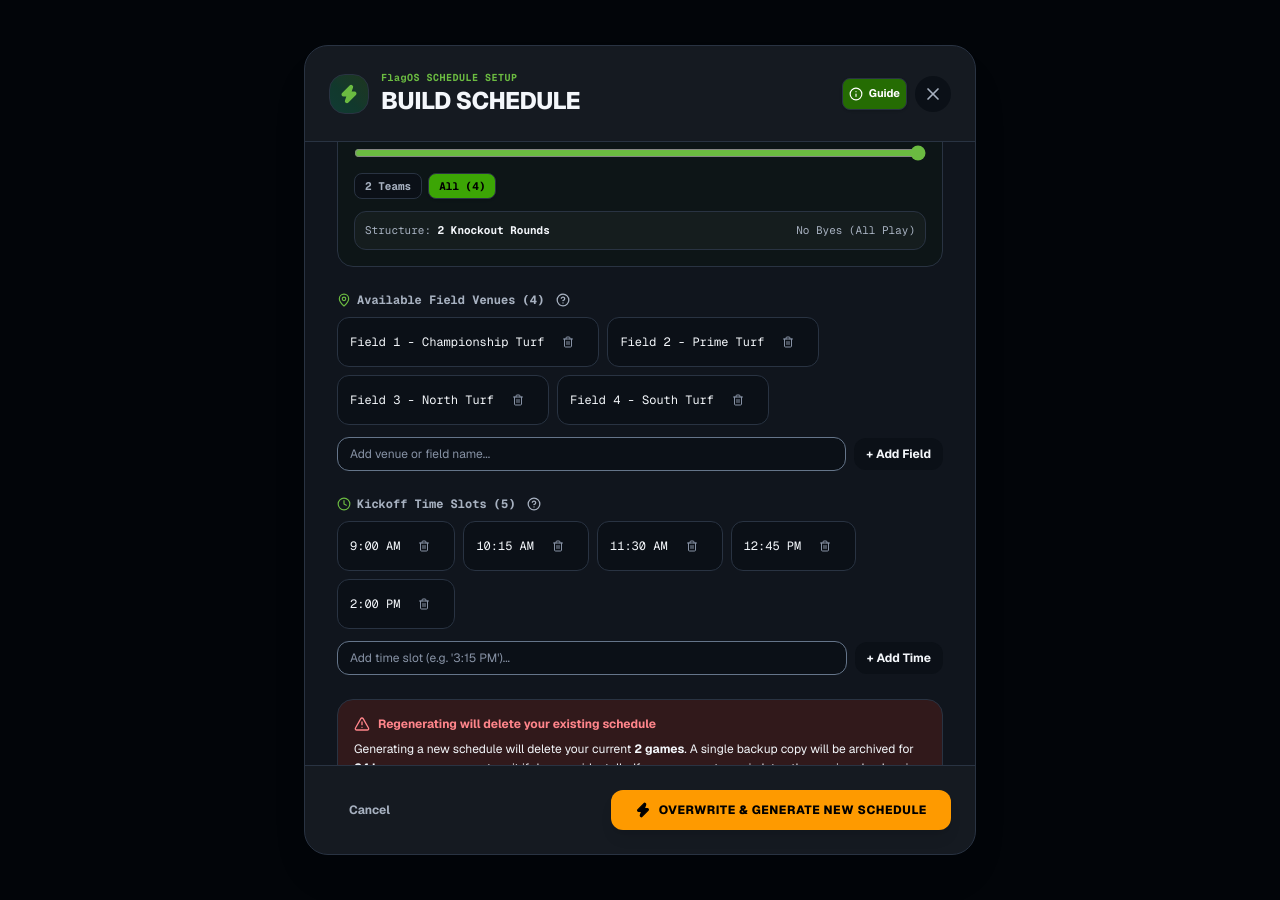
Test: Schedule Modals Comprehensive Suite › AutomatedScheduleBuilderModal › manages venues, kickoff times, weeks stepper, and playoff options
This screenshot has width=1280, height=900.
(page scrolled)
# Add a venue with text input
Type "South Stadium" into the field with placeholder "Add venue or field name...".
click(592, 454); type("South Stadium")  # box [337,436,846,470]
Click the button "+ Add Field".
click(899, 454)  # box [854,438,943,470]
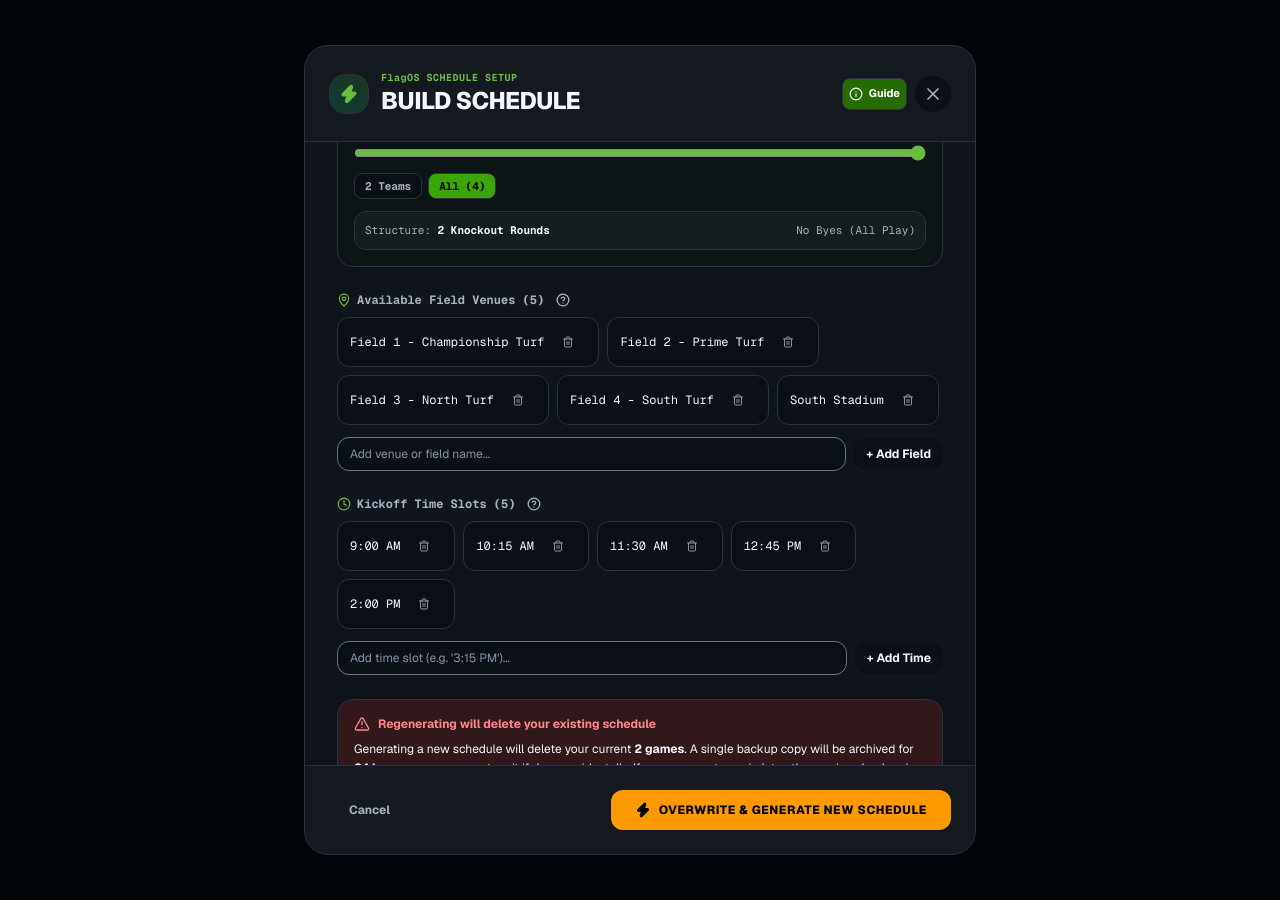
Now the text "South Stadium" is shown, box [790,392,884,408]
# Remove a venue
Click the button named "Remove field Field 2 - Prime Turf".
click(788, 342)  # box [770,324,806,360]
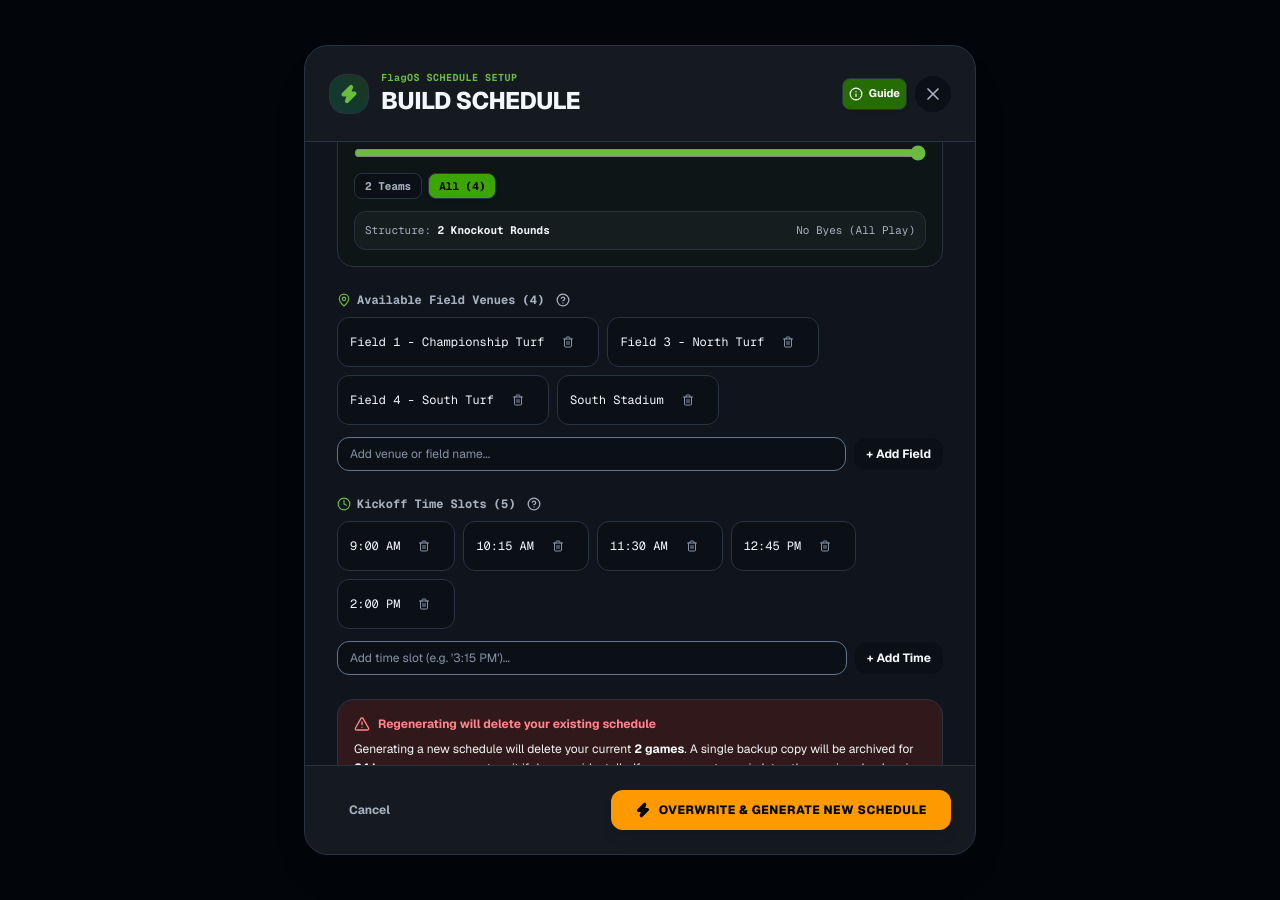
Now the text "Field 2 - Prime Turf" is gone
# Add a kickoff time slot
Type "4:30 PM" into the field with placeholder "Add time slot (e.g. '3:15 PM')...".
click(592, 658); type("4:30 PM")  # box [337,640,847,674]
Click the button "+ Add Time".
click(899, 658)  # box [855,642,943,674]
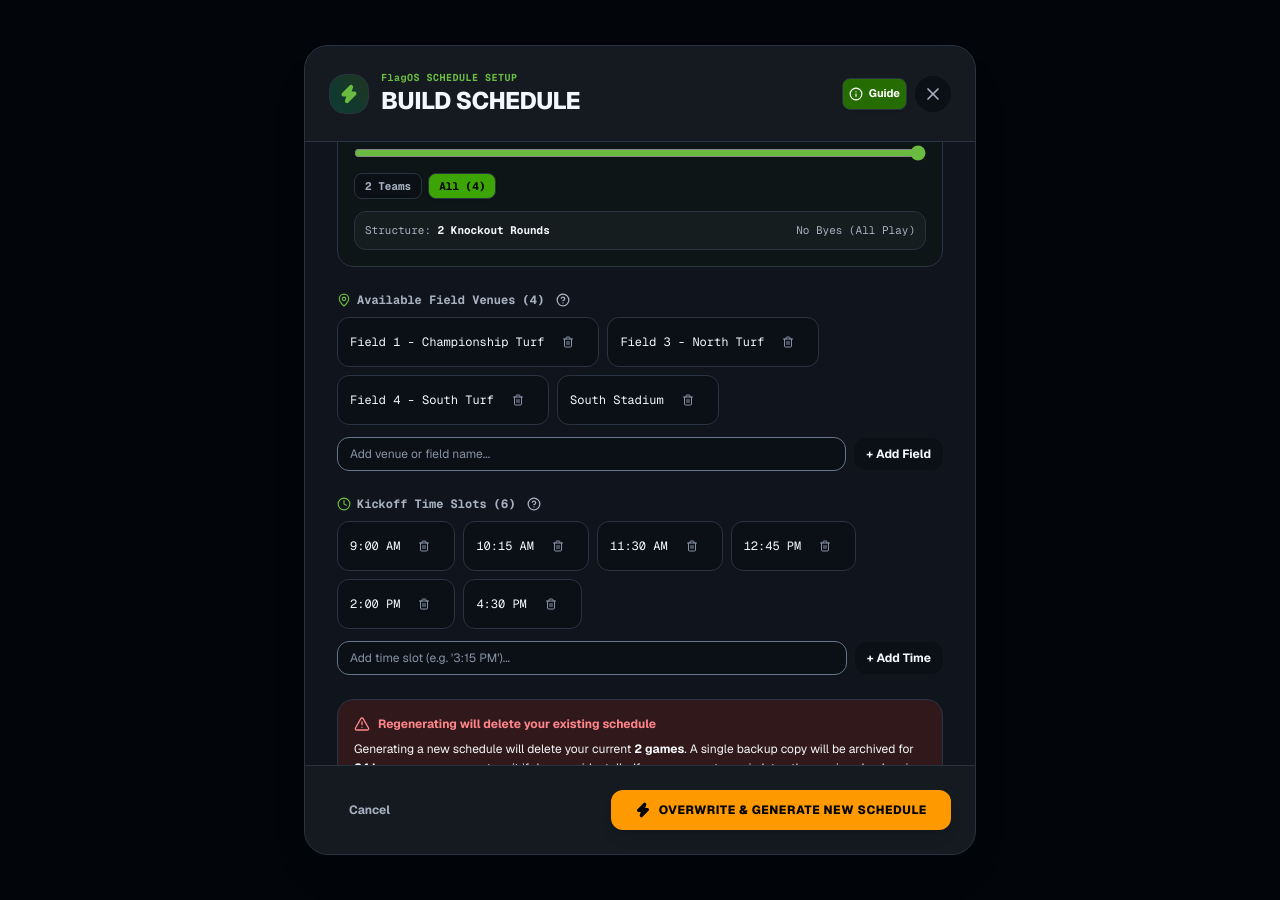
Now the text "4:30 PM" is shown, box [476,596,527,612]
# Remove a time slot
Click the button named "Remove kickoff time 10:15 AM".
click(558, 546)  # box [540,528,576,564]
(page scrolled)
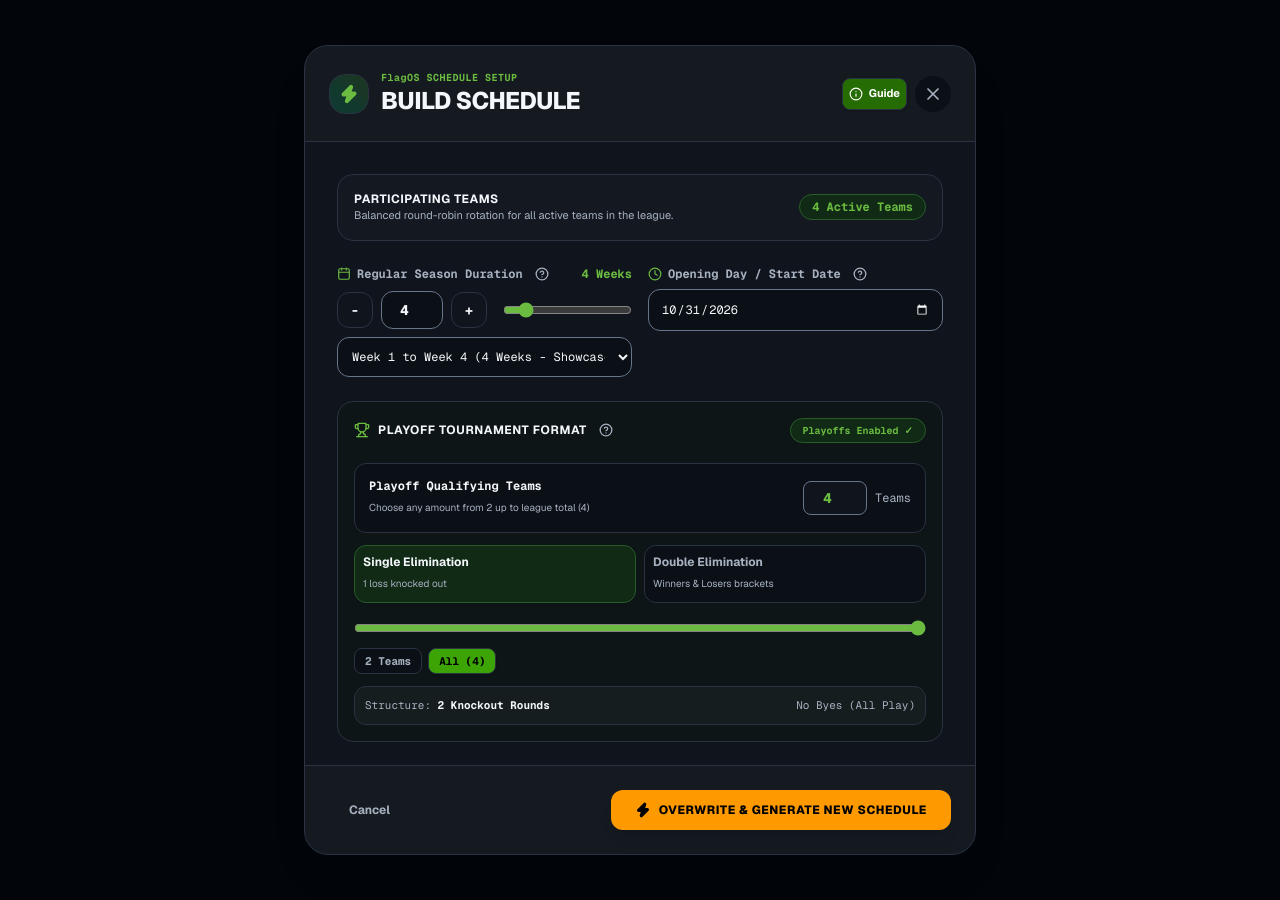
Now the text "10:15 AM" is gone
# Increase weeks with stepper button
Click the button titled "Increase by 1 week".
click(469, 310)  # box [451,292,487,328]
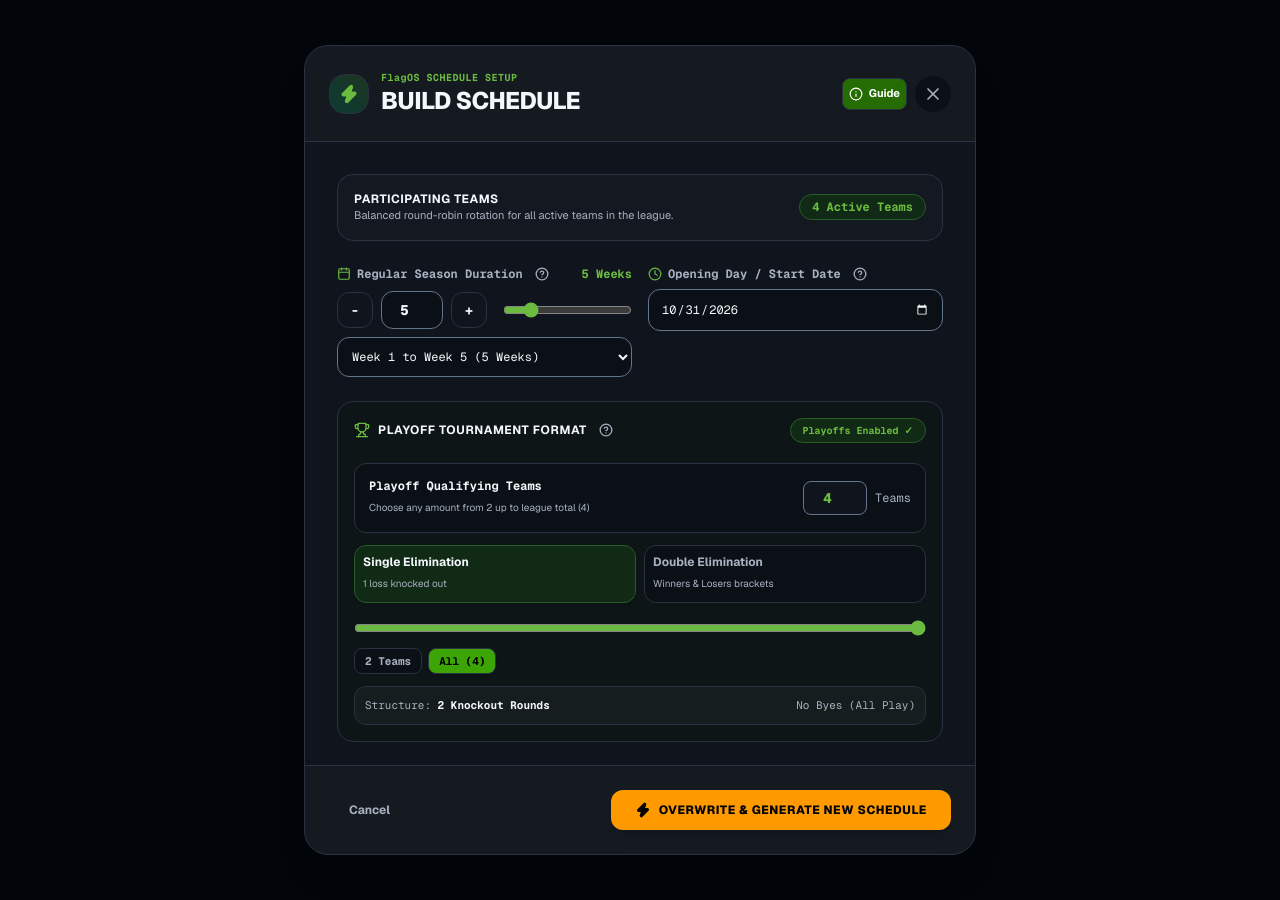
# Toggle Playoff Tournament Format button
Click the button "Playoffs Enabled ✓".
click(858, 430)  # box [790,418,926,442]
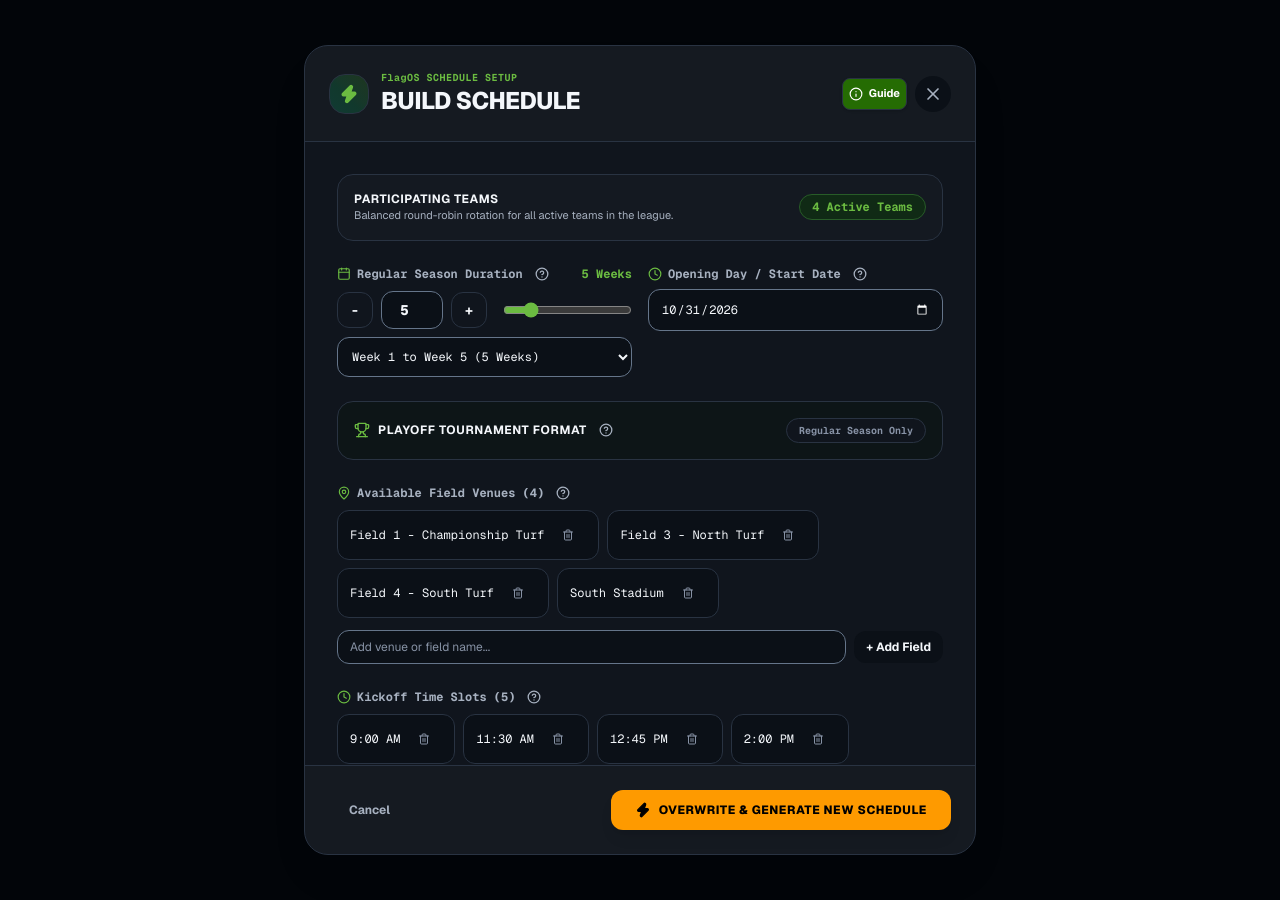
Now the button "Regular Season Only" is shown, box [786,418,926,442]
